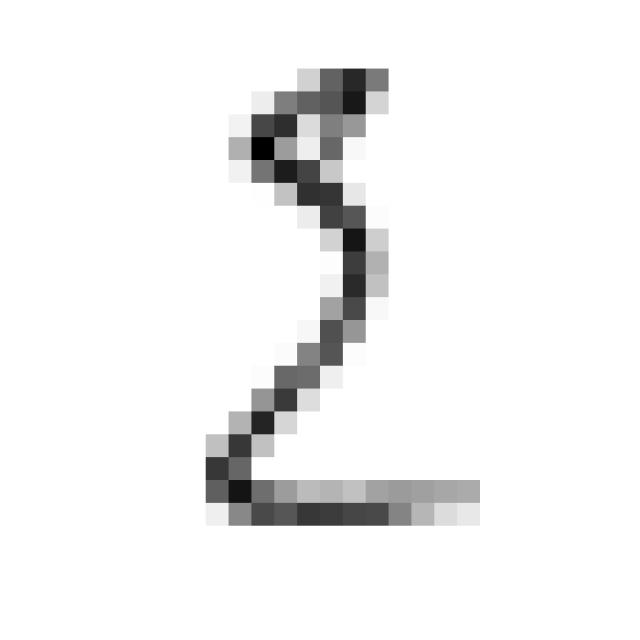4 -four-: (194, 51, 508, 548)
